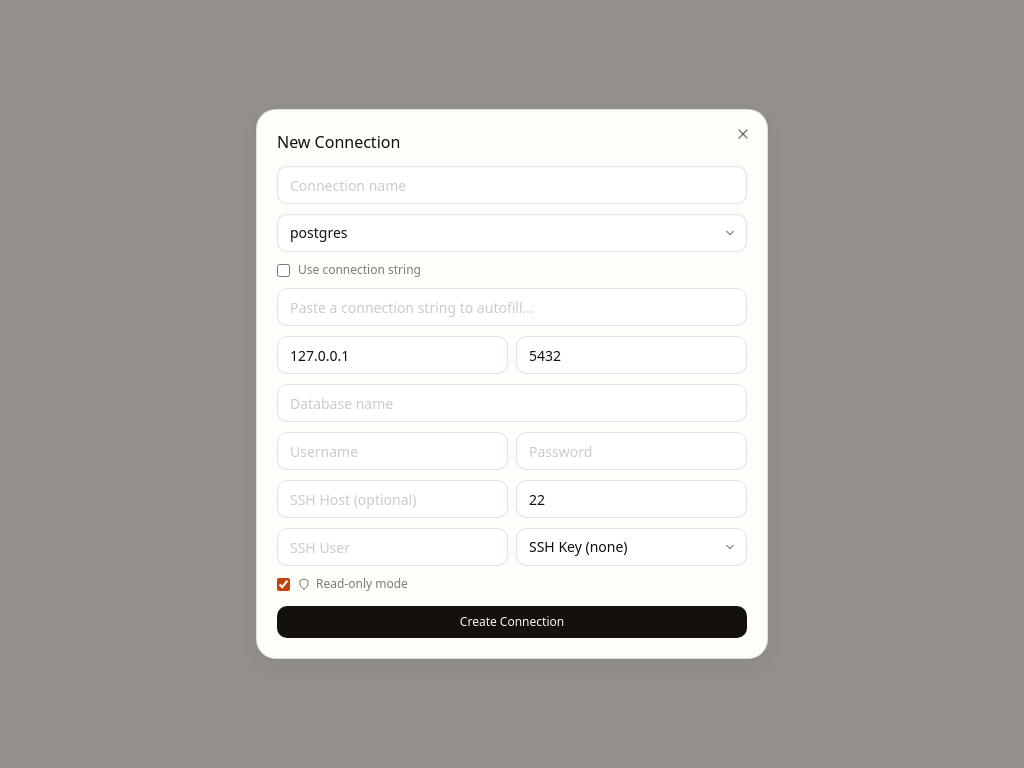
ConnectionSelector — Google Analytics 4 source (SCN-113) › asks the vendor on demand and shows what it answered
Select "Google Analytics 4" in the dropdown named "Database type": (512, 233) x1=277 y1=214 x2=747 y2=252
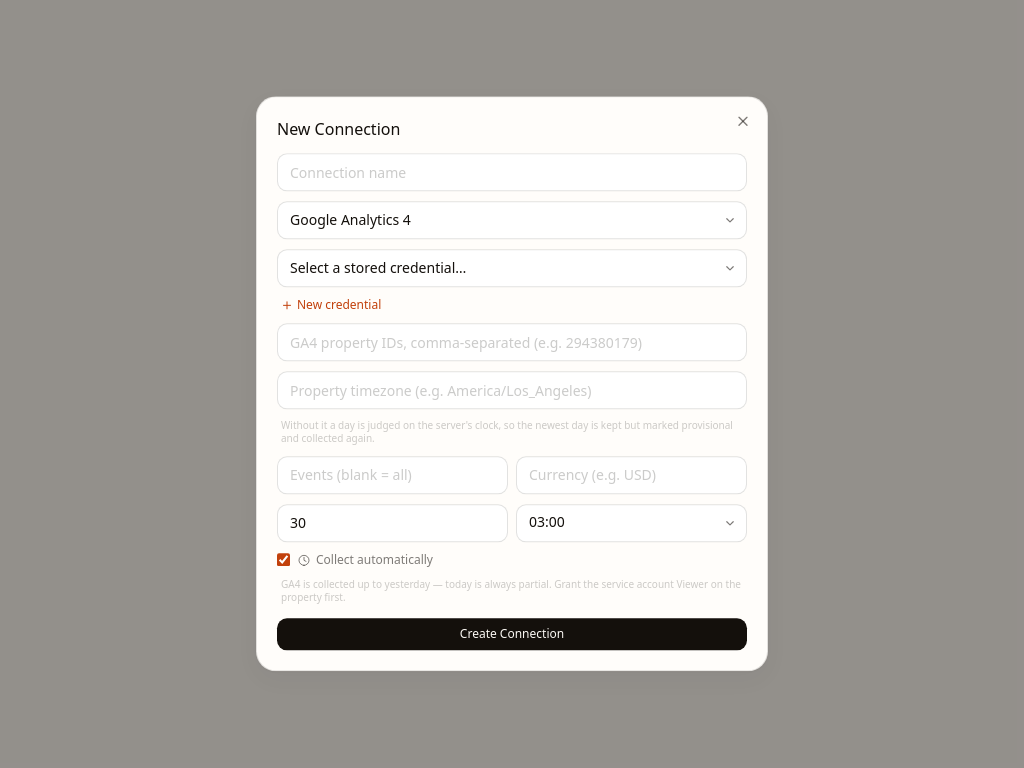
Select "analytics-sa — collector@proj.iam.gserviceaccount.com" in the dropdown named "GA4 vendor credential": (512, 268) x1=277 y1=249 x2=747 y2=287
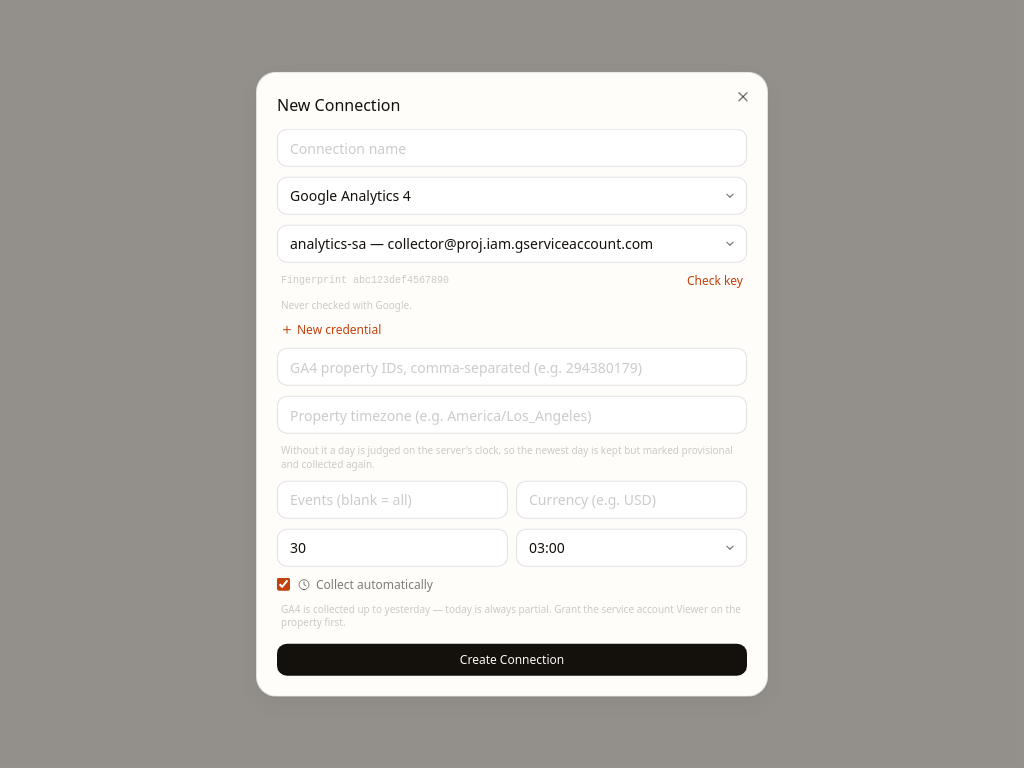
Click the button "Check key": (715, 281) x1=687 y1=273 x2=743 y2=289
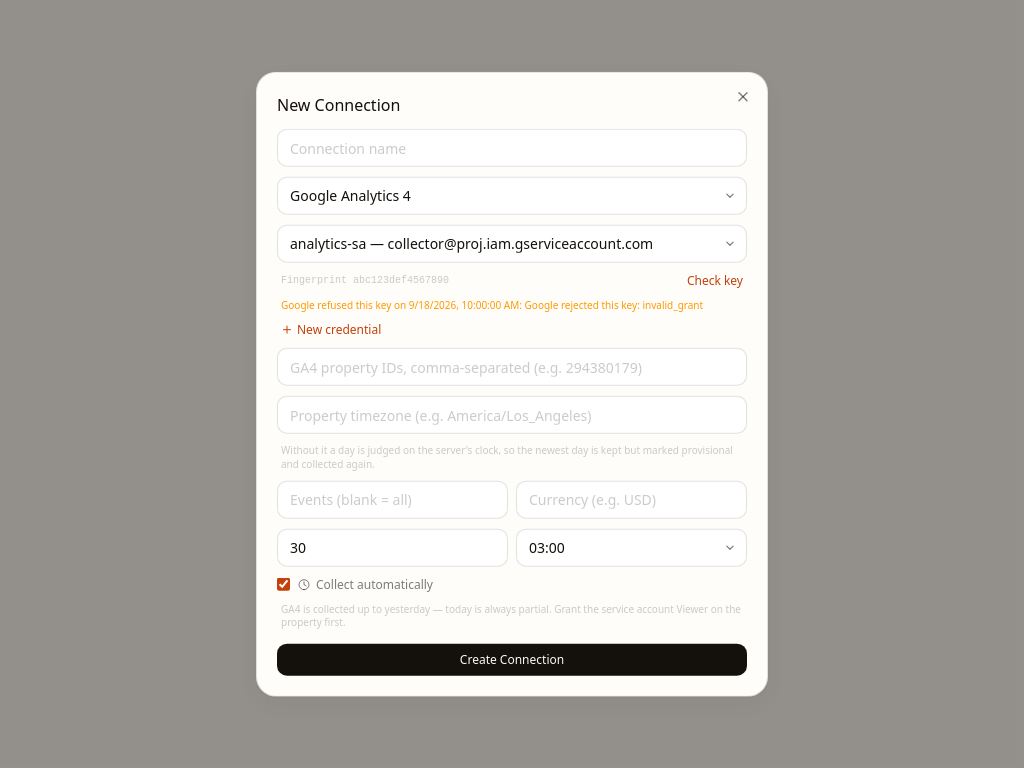
Result: the text with test id "credential-verdict" shows "refused this key" at x1=281 y1=298 x2=703 y2=312
